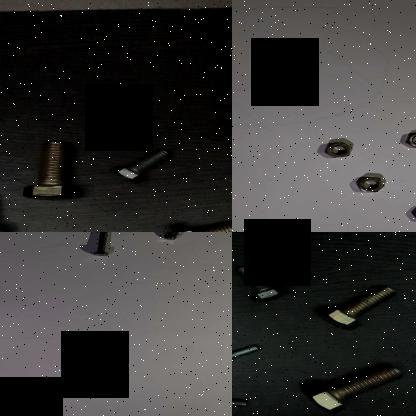Bolts: (296, 356, 405, 416), (313, 274, 403, 334), (21, 133, 75, 209), (232, 261, 290, 309), (110, 144, 174, 187), (157, 212, 232, 232), (232, 341, 264, 373), (86, 232, 120, 260), (156, 232, 196, 243)
NUTS: (320, 138, 356, 159), (350, 174, 386, 194), (401, 129, 416, 148), (408, 203, 416, 221)
